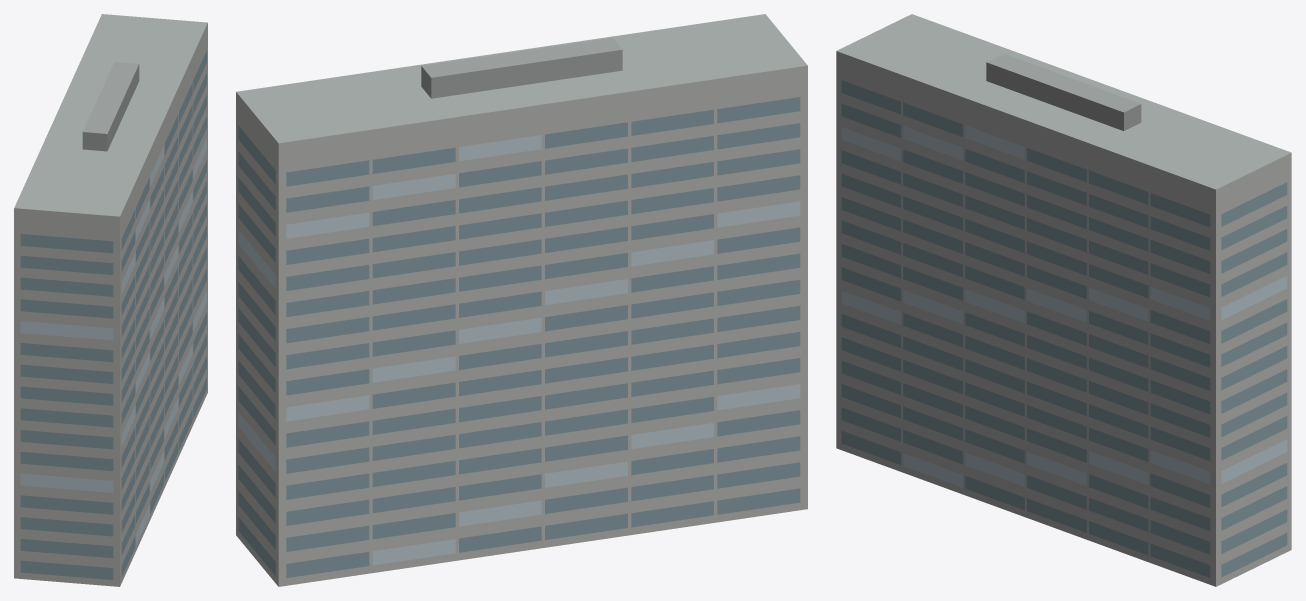
The model's file is fallback-dmc-raemian-e-pyeonhansesang-212.glb.
3 renders of one model, left to right at view 1: azimuth 30°, elevation 25°; view 2: azimuth 150°, elevation 25°; view 3: azimuth 270°, elevation 25°, orthographic. The views are drawn at different scales.
Visible parts, largest first — view 1: fallback-dmc-raemian-e-pyeonhansesang-212; view 2: fallback-dmc-raemian-e-pyeonhansesang-212; view 3: fallback-dmc-raemian-e-pyeonhansesang-212.
Part boxes in pixels (x1,y1,x2,y2): fallback-dmc-raemian-e-pyeonhansesang-212: (14, 14, 207, 586); fallback-dmc-raemian-e-pyeonhansesang-212: (236, 14, 807, 586); fallback-dmc-raemian-e-pyeonhansesang-212: (836, 14, 1291, 586).
Size of the model in its own units: 47.09 by 52 by 51.6.
